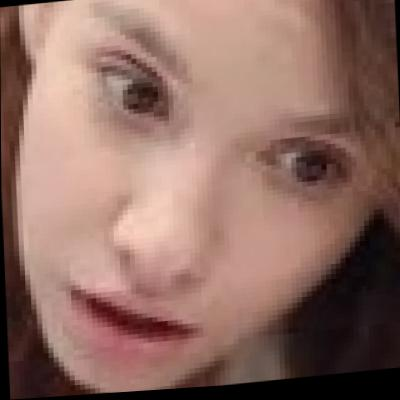surprise: (22, 0, 381, 381)
